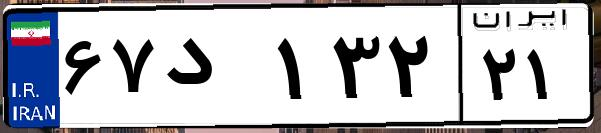1: (270, 28, 330, 110), (525, 38, 570, 115)
2: (385, 28, 445, 110), (475, 38, 525, 113)
3: (330, 28, 385, 110)
6: (57, 26, 110, 100)
7: (110, 28, 158, 98)
د: (158, 20, 270, 120)
